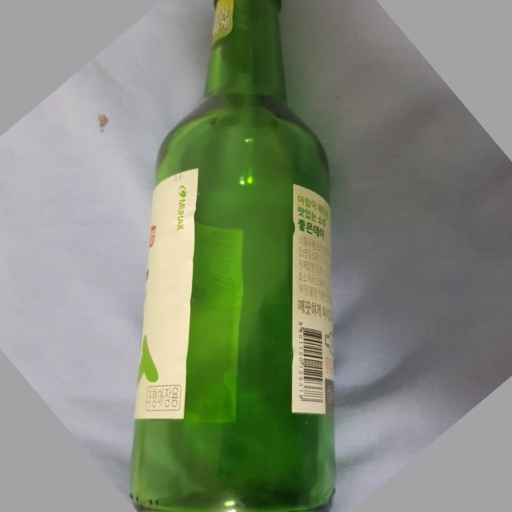Glass_0: (131, 2, 339, 512)
